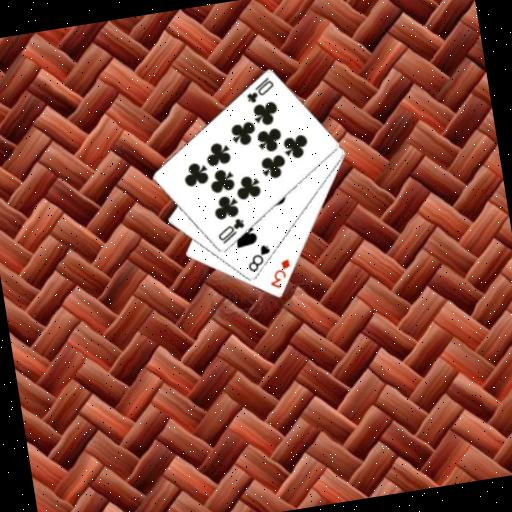10C: (240, 73, 278, 106), (212, 214, 248, 246)
3D: (263, 255, 295, 291)
8S: (242, 240, 275, 274)
